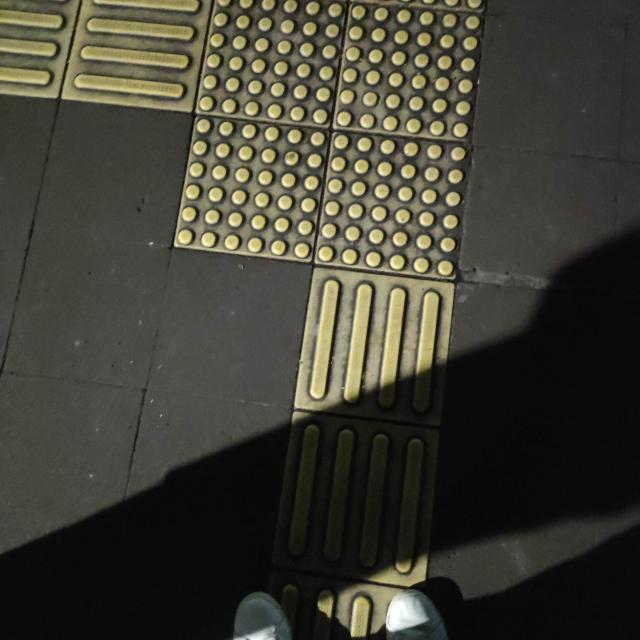kiri: (17, 0, 544, 390)
